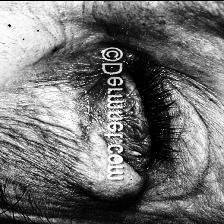Unclassified: (43, 82, 103, 195), (104, 184, 136, 202), (129, 166, 137, 186)
